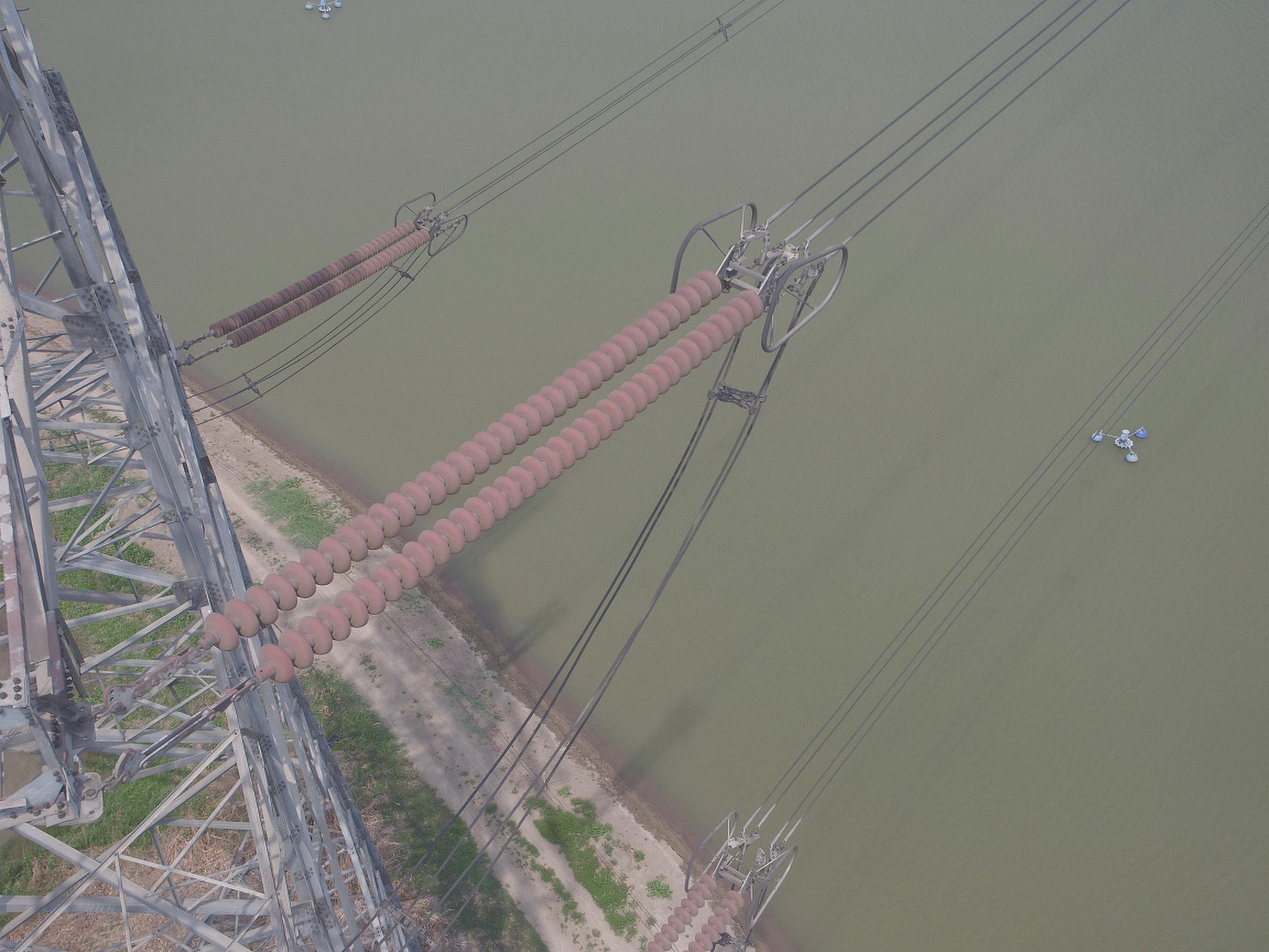insulator: (194, 266, 768, 690), (205, 218, 433, 350), (644, 871, 749, 952)
